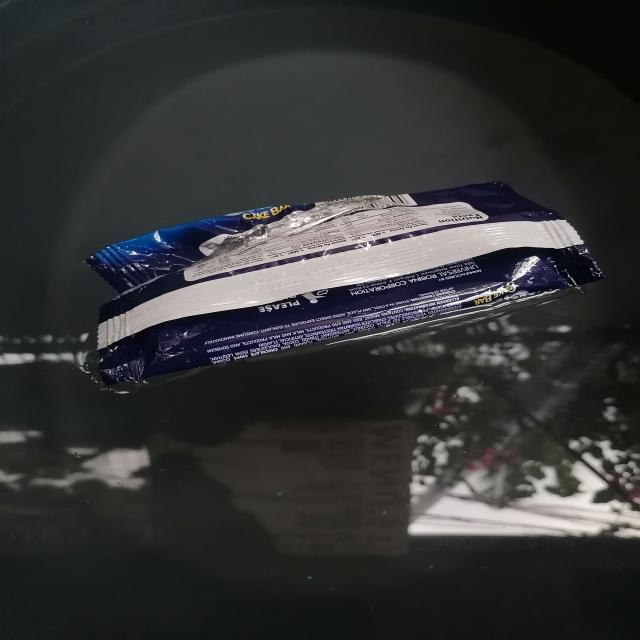Plastic Wrapper: (87, 182, 604, 386)
